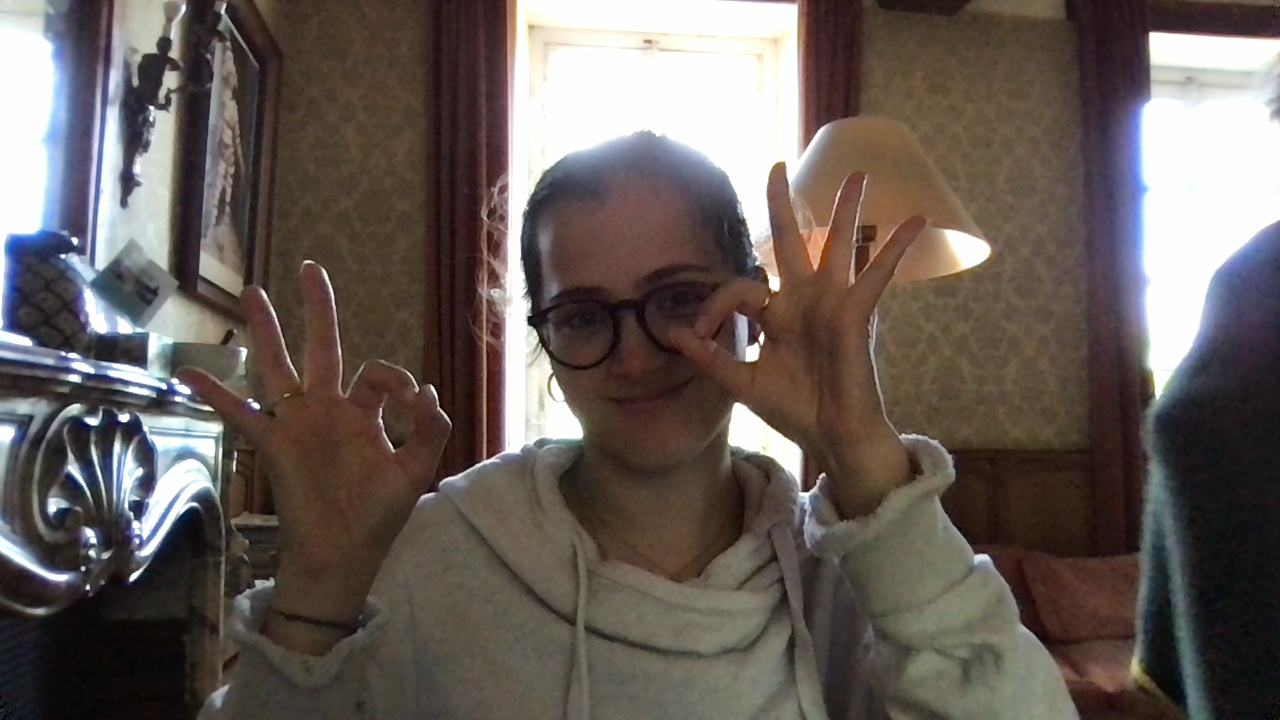thankYou: (176, 259, 452, 572), (670, 162, 930, 448)
